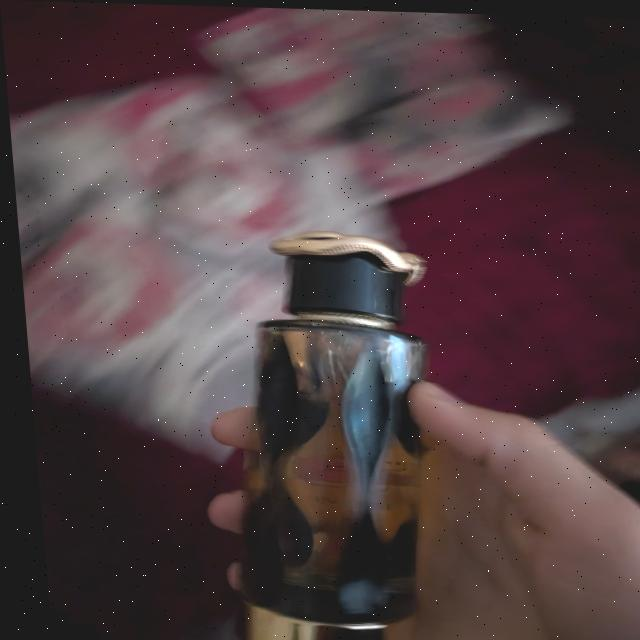Teriaq-Intense: (196, 224, 452, 640)
